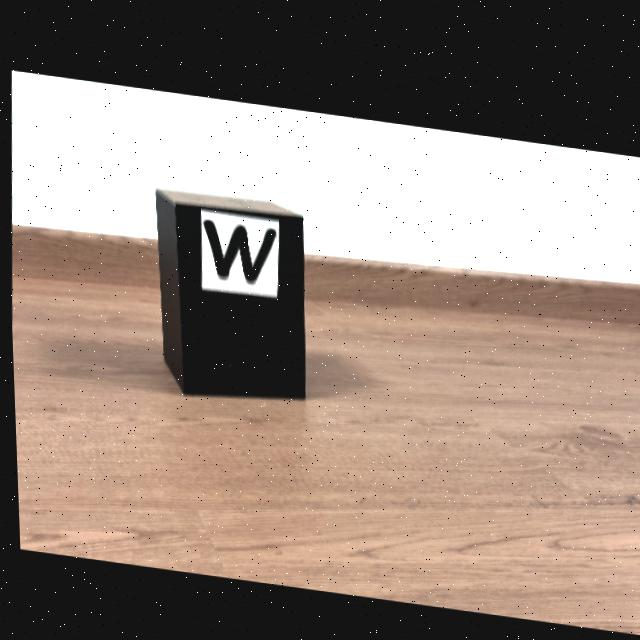W: (201, 216, 274, 276)
